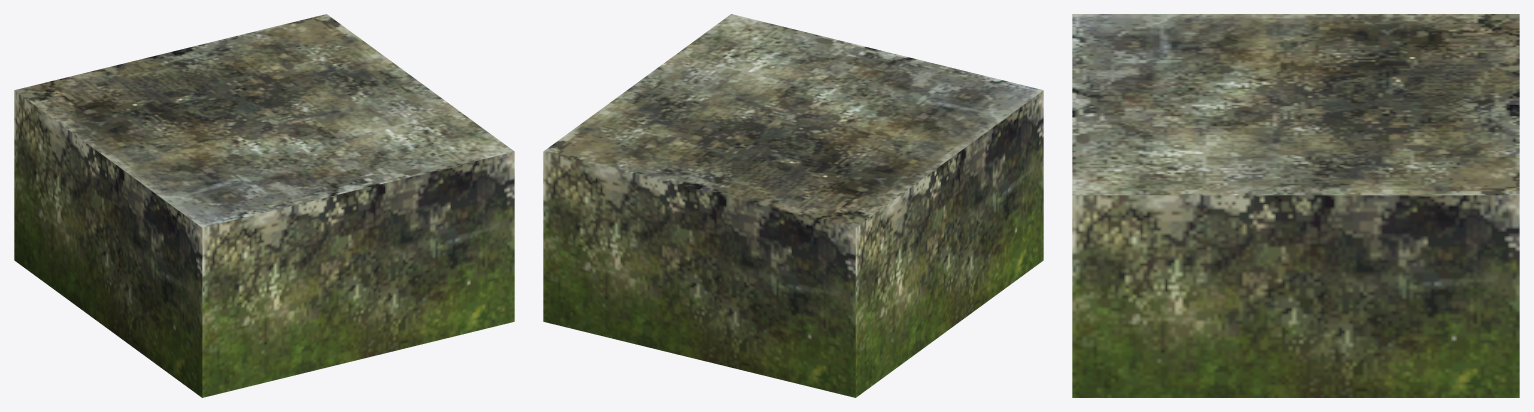
The model's file is OZ_09_mi_block02A.glb.
3 views of the same model, side by side, from view 1: azimuth 30°, elevation 25°; view 2: azimuth 150°, elevation 25°; view 3: azimuth 270°, elevation 25° (orthographic). The views are drawn at different scales.
Visible parts, largest first — view 1: OM_09_mi_block02A; view 2: OM_09_mi_block02A; view 3: OM_09_mi_block02A.
Boxes of the visible parts, x1=… form: OM_09_mi_block02A: x1=14, y1=14, x2=514, y2=397; OM_09_mi_block02A: x1=543, y1=14, x2=1043, y2=397; OM_09_mi_block02A: x1=1072, y1=14, x2=1519, y2=397.
Size of the model in its own units: 2.98 by 1.55 by 3.11.
Materials: 1 (1 with a texture image).
